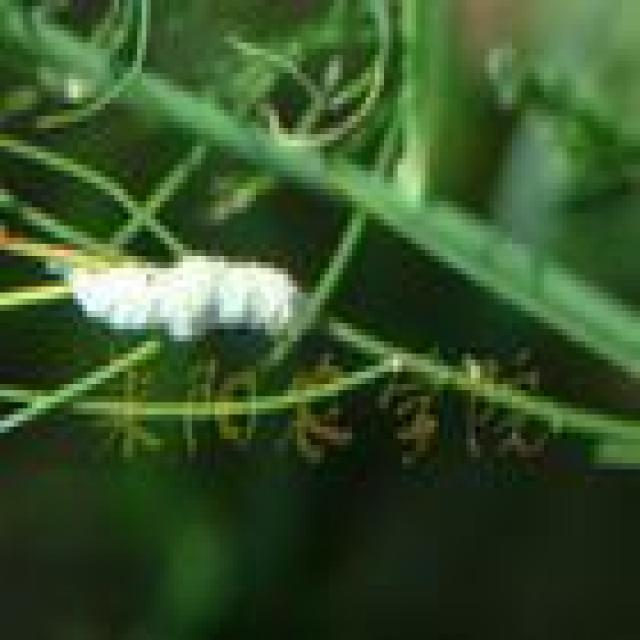BeetArmyWorm-Larva-: (54, 238, 318, 345)
